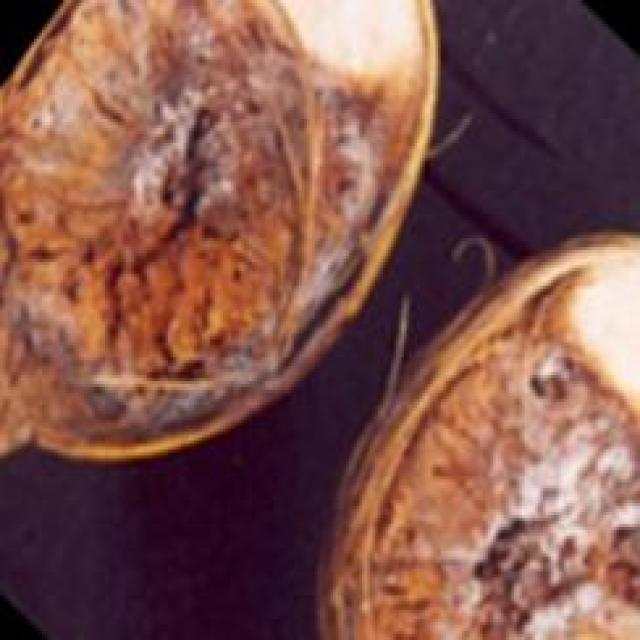damaged: (0, 0, 435, 458), (317, 235, 637, 637)
